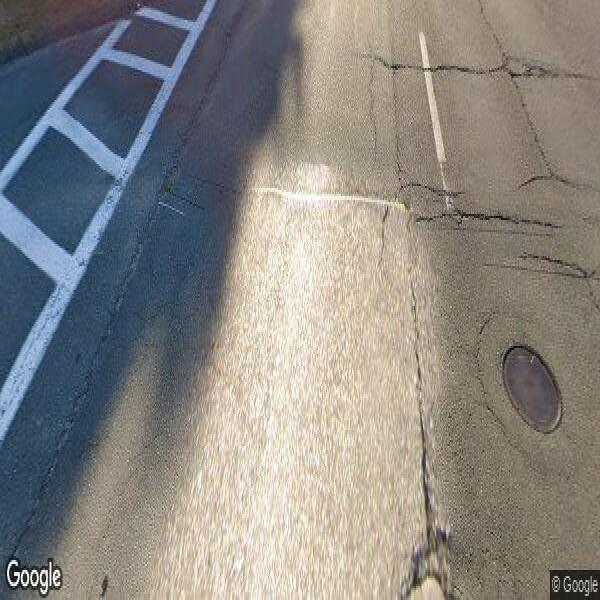manhole: (493, 335, 567, 444)
